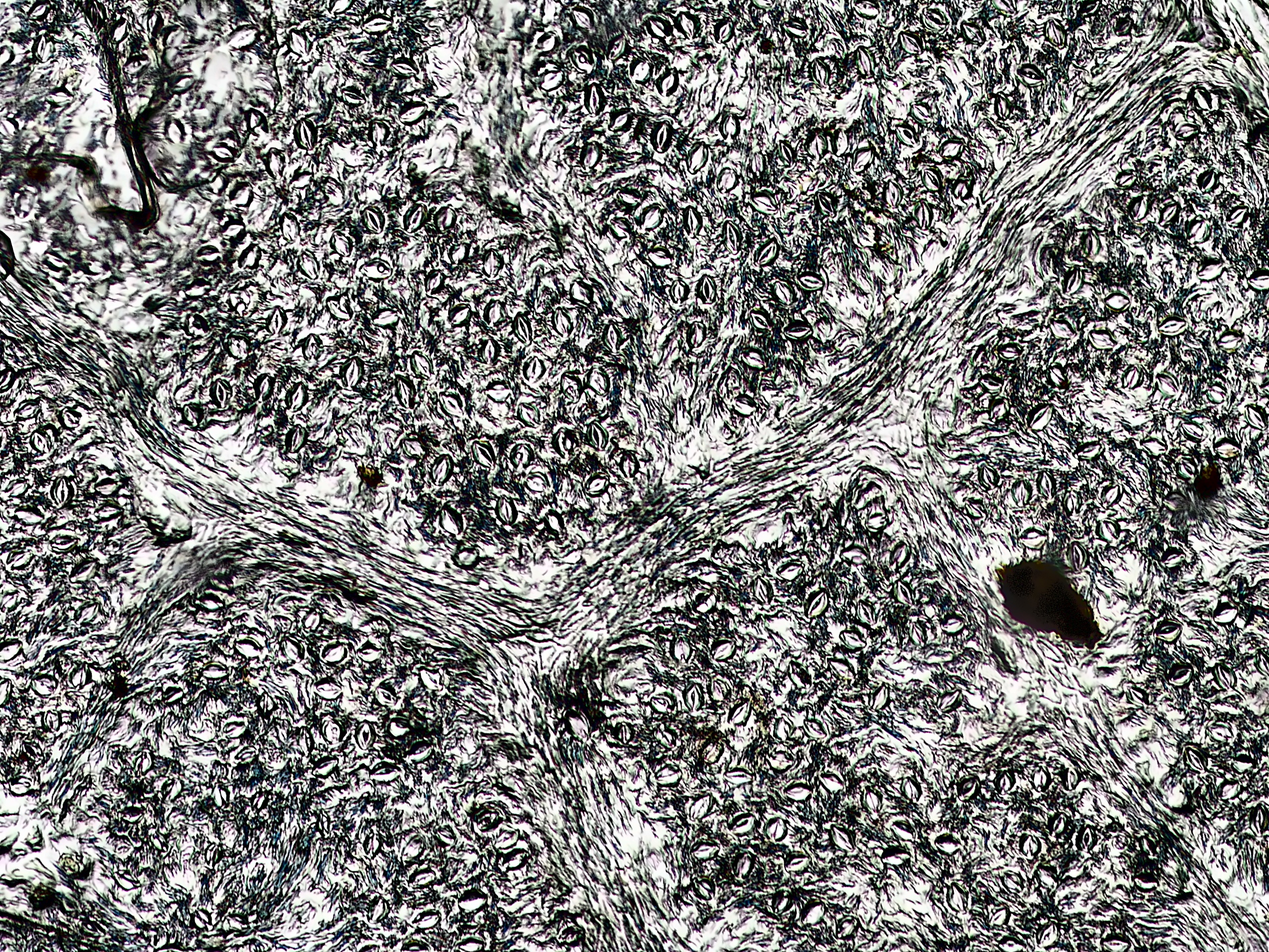stomata: (223, 21, 260, 49), (292, 118, 321, 149), (831, 824, 859, 855), (339, 356, 365, 389), (288, 27, 314, 59), (359, 13, 395, 36), (50, 475, 75, 507), (452, 543, 481, 570), (686, 141, 709, 175), (587, 364, 610, 398), (512, 314, 537, 345), (554, 428, 579, 459), (1214, 662, 1239, 692), (359, 258, 393, 280), (806, 128, 828, 162), (285, 422, 309, 453), (651, 122, 675, 153), (1015, 64, 1046, 88), (602, 321, 625, 353), (825, 657, 857, 680), (551, 306, 573, 339), (480, 249, 504, 279), (655, 66, 679, 96), (582, 83, 604, 115), (1045, 17, 1067, 49), (431, 453, 453, 485), (183, 310, 209, 337), (572, 6, 598, 33), (898, 29, 924, 56), (439, 391, 466, 417), (922, 7, 950, 32), (472, 440, 497, 468), (1028, 402, 1053, 430), (750, 576, 775, 604), (296, 250, 320, 279), (223, 334, 252, 358), (1154, 619, 1183, 643), (567, 711, 591, 740), (654, 763, 683, 787), (265, 147, 286, 180), (267, 305, 288, 338), (394, 376, 415, 409), (236, 243, 262, 269), (210, 379, 234, 407), (407, 741, 435, 765), (639, 202, 662, 231), (855, 45, 875, 78), (750, 192, 780, 214), (755, 236, 777, 266), (496, 496, 518, 526), (389, 57, 420, 78), (405, 203, 426, 234), (683, 206, 704, 237), (882, 178, 903, 209), (342, 425, 367, 451), (74, 601, 100, 626), (326, 295, 353, 319), (894, 123, 921, 147), (440, 507, 464, 534), (852, 146, 875, 174), (479, 337, 502, 365), (1060, 266, 1083, 294), (1216, 327, 1244, 350), (776, 560, 808, 580), (334, 230, 356, 259), (677, 11, 699, 40), (559, 373, 581, 402), (458, 889, 487, 911), (888, 542, 910, 571), (858, 785, 880, 814), (795, 270, 825, 291), (721, 221, 740, 254), (228, 288, 252, 314), (518, 402, 544, 426), (1168, 661, 1192, 687), (716, 166, 739, 193), (5, 546, 32, 569), (1021, 527, 1048, 550), (589, 420, 609, 451), (838, 629, 869, 649), (32, 34, 54, 62), (410, 350, 432, 378), (1011, 477, 1033, 505), (1212, 602, 1240, 624), (806, 591, 828, 619), (670, 635, 692, 663), (323, 177, 344, 206), (423, 265, 444, 294), (183, 278, 212, 299), (303, 333, 324, 362), (286, 382, 307, 411), (282, 211, 301, 243), (434, 206, 458, 231), (687, 318, 707, 348), (1244, 405, 1268, 430), (791, 658, 811, 688), (246, 110, 269, 136), (731, 852, 754, 878), (802, 900, 825, 926), (937, 688, 963, 711), (1252, 802, 1269, 837), (219, 218, 246, 240), (1186, 745, 1208, 772), (371, 762, 402, 781), (720, 111, 741, 139), (484, 299, 505, 327), (523, 354, 544, 382), (234, 635, 262, 656), (314, 678, 342, 699), (46, 86, 75, 106), (255, 371, 273, 403), (585, 472, 610, 495), (32, 674, 57, 697), (765, 817, 788, 842), (363, 207, 385, 233), (231, 181, 253, 207), (572, 46, 594, 72), (485, 380, 511, 402), (572, 278, 594, 304), (728, 700, 750, 726), (357, 720, 376, 750), (948, 882, 967, 912), (580, 142, 601, 169), (369, 896, 390, 923), (1163, 491, 1190, 512), (1068, 543, 1089, 570), (691, 878, 718, 899), (959, 775, 980, 802), (400, 102, 428, 122), (23, 0, 51, 20), (1103, 293, 1131, 313), (691, 793, 711, 821), (962, 21, 986, 44), (1156, 371, 1180, 394), (1036, 923, 1059, 947), (122, 55, 151, 74), (1187, 219, 1209, 244), (71, 559, 96, 581), (820, 768, 845, 790), (605, 34, 626, 60), (648, 246, 674, 267), (545, 510, 566, 536), (414, 909, 440, 930), (1122, 362, 1143, 388), (15, 400, 42, 420), (1173, 121, 1200, 141), (607, 218, 634, 238), (816, 190, 836, 217), (114, 869, 141, 889), (311, 756, 338, 776), (1159, 315, 1186, 335), (1036, 470, 1056, 497), (896, 580, 916, 607), (683, 684, 701, 714), (810, 59, 829, 87), (776, 138, 795, 166), (698, 275, 717, 303), (1098, 518, 1121, 541), (699, 740, 722, 763), (608, 109, 632, 131), (940, 139, 964, 161), (223, 718, 247, 740), (421, 666, 443, 690), (804, 716, 826, 740), (340, 87, 365, 108), (369, 121, 390, 146), (196, 243, 221, 264), (648, 14, 669, 39), (783, 18, 808, 39), (283, 635, 304, 660), (1198, 259, 1223, 280), (785, 781, 810, 802), (1139, 437, 1168, 455), (839, 544, 868, 562), (934, 835, 963, 853), (1078, 824, 1096, 853), (362, 832, 382, 858), (870, 685, 890, 711), (766, 750, 792, 770), (372, 308, 399, 327), (715, 17, 734, 44), (72, 661, 91, 688), (1214, 440, 1241, 459), (724, 767, 754, 784), (31, 430, 53, 453), (20, 740, 43, 762), (621, 451, 639, 479), (402, 437, 426, 458), (0, 638, 21, 662), (1082, 230, 1100, 258), (1051, 318, 1075, 339), (903, 776, 921, 804), (837, 916, 858, 940), (1127, 685, 1151, 706), (922, 166, 942, 191), (859, 600, 879, 625), (908, 621, 928, 646), (450, 241, 469, 267), (854, 0, 880, 19), (8, 776, 34, 795), (1064, 488, 1083, 514), (710, 640, 736, 659), (994, 92, 1011, 121), (940, 615, 967, 633), (669, 280, 691, 302), (1038, 865, 1060, 887), (5, 477, 28, 498), (540, 69, 563, 90), (1159, 203, 1180, 226), (512, 443, 533, 466), (1248, 269, 1269, 292), (865, 511, 888, 532), (94, 504, 124, 520), (196, 594, 226, 610), (161, 777, 181, 801), (1062, 767, 1082, 791), (1208, 722, 1232, 742), (1101, 936, 1131, 952), (743, 348, 768, 367), (495, 829, 520, 848), (692, 842, 717, 861), (892, 822, 917, 841), (93, 477, 119, 495), (410, 870, 436, 888), (916, 201, 932, 230), (535, 29, 556, 51), (750, 308, 771, 330), (324, 642, 345, 664), (404, 837, 425, 859), (656, 727, 677, 749), (171, 73, 194, 93), (1193, 86, 1213, 109), (1228, 206, 1248, 229), (1205, 383, 1228, 403), (979, 465, 999, 488), (1163, 547, 1186, 567), (1001, 871, 1024, 891), (202, 662, 229, 679), (1088, 330, 1115, 347), (883, 848, 910, 865), (358, 642, 382, 661), (322, 718, 341, 742), (503, 850, 527, 869), (651, 695, 675, 714), (50, 534, 80, 549), (1032, 767, 1050, 792), (1074, 444, 1102, 460), (1047, 365, 1068, 386), (291, 170, 313, 190), (734, 396, 756, 416), (954, 175, 973, 198), (1, 590, 20, 613), (1102, 485, 1121, 508), (1232, 755, 1255, 774), (111, 19, 129, 43), (632, 58, 650, 82), (1129, 196, 1147, 220), (775, 281, 793, 305), (234, 746, 258, 764), (989, 397, 1007, 421), (707, 679, 725, 703), (996, 770, 1014, 794), (1135, 873, 1159, 891), (785, 321, 813, 336), (449, 306, 470, 326), (377, 686, 398, 706), (149, 831, 170, 851), (729, 812, 750, 832), (60, 410, 82, 429), (828, 38, 847, 60), (162, 685, 184, 704), (389, 718, 412, 736), (476, 811, 499, 829), (771, 891, 789, 914), (775, 715, 792, 739), (832, 126, 846, 155), (120, 807, 145, 823), (459, 936, 484, 952), (1221, 780, 1240, 801), (134, 752, 152, 774), (1077, 0, 1100, 17), (786, 856, 809, 873), (168, 120, 184, 144), (1182, 422, 1206, 438), (912, 103, 932, 122), (528, 472, 548, 491), (696, 593, 715, 613), (184, 403, 202, 424), (0, 368, 15, 393), (991, 0, 1016, 15), (618, 188, 643, 203), (752, 151, 767, 176), (1025, 833, 1040, 858), (1115, 169, 1137, 186), (259, 692, 276, 714), (964, 500, 986, 517), (42, 710, 59, 731), (213, 145, 235, 161), (998, 343, 1020, 359), (1256, 648, 1269, 675), (998, 939, 1025, 952), (0, 678, 12, 707), (617, 721, 632, 744), (1198, 171, 1216, 190), (1116, 16, 1133, 36), (205, 844, 222, 864), (227, 914, 248, 930), (978, 376, 1002, 390), (437, 827, 456, 844), (194, 909, 210, 929), (304, 610, 320, 629), (1179, 459, 1195, 478), (989, 909, 1008, 925), (1112, 834, 1131, 850), (750, 0, 776, 10), (214, 786, 227, 806), (253, 791, 267, 809), (1052, 813, 1064, 834)
